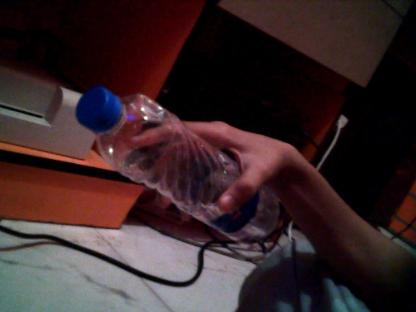Plastic Bottle: (76, 85, 282, 245)
